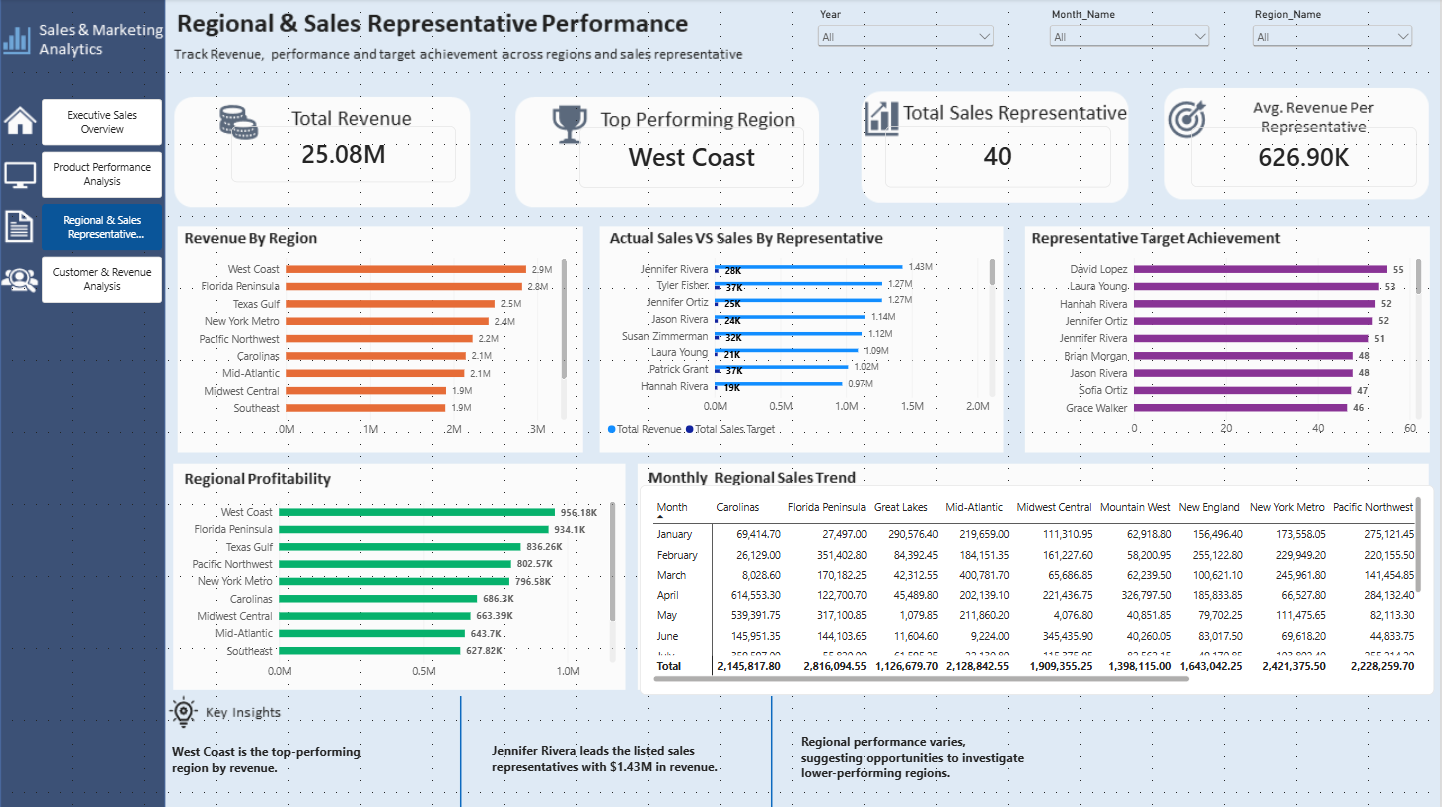

The dashboard page shown, as its layout file describes it:
{"tool":"powerbi","page":{"name":"Regional & Sales Representative Performance","canvas":[1920,1080],"ordinal":2},"visuals":[{"type":"card","fields":{"Values":["Sales_Transactions.Total Revenue"]},"box":[308,168,300,74.7],"z":0},{"type":"card","fields":{"Values":["Regions.Top - Peforming Region"]},"box":[772.1,168.7,300.3,80.9],"z":1000},{"type":"card","fields":{"Values":["Sales_Representatives.Total Sales Representative"]},"box":[1180.3,168.4,300.6,81.8],"z":2000},{"type":"card","fields":{"Values":["Sales_Transactions.Avg. Revenue Per Representative"]},"box":[1587.9,170,300.6,80.3],"z":3000},{"type":"clusteredBarChart","fields":{"Category":["Regions.Region_Name"],"Y":["Sales_Transactions.Total Revenue"]},"box":[239.2,322.6,533.5,280.1],"z":4000},{"type":"clusteredBarChart","fields":{"Category":["Sales_Representatives.Sales_Rep_Name"],"Y":["Sales_Transactions.Total Revenue","Sales_Representatives.Total Sales Target"]},"box":[792.7,322.3,549.9,279.8],"z":5000},{"type":"clusteredBarChart","fields":{"Category":["Sales_Representatives.Sales_Rep_Name"],"Y":["Sales_Representatives.Sales Target Achievement %"]},"box":[1352.6,322.3,559.5,279.8],"z":6000},{"type":"clusteredBarChart","fields":{"Category":["Regions.Region_Name"],"Y":["Sales_Transactions.Total Profit"]},"box":[229,647.3,607.5,279.8],"z":7000},{"type":"pivotTable","fields":{"Rows":["Customers.Acquisition_Date.Variation.Date Hierarchy.Month"],"Columns":["Regions.Region_Name"],"Values":["Sales_Transactions.Total Revenue"]},"box":[853,646.8,1059.1,280.1],"z":8000},{"type":"pageNavigator","box":[56.7,132.2,160.5,273.8],"z":9000},{"type":"slicer","fields":{"Values":["Sales_Transactions.Order_Date Hierarchy.Year"]},"box":[1085.9,11,245.5,86.4],"z":10000},{"type":"slicer","fields":{"Values":["Regions.Region_Name"]},"box":[1665,11,223.5,86.6],"z":11000},{"type":"slicer","fields":{"Values":["Sales_Transactions.Order_Date Hierarchy.Month_Name"]},"box":[1394.4,11,223.5,86.6],"z":12000},{"type":"textbox","box":[229,990.2,304,72],"z":13000},{"type":"shape","box":[532.1,927.8,164.6,152.2],"z":14000},{"type":"textbox","box":[655.5,988.8,304,72],"z":15000},{"type":"shape","box":[946.3,928.5,164.6,152.2],"z":16000},{"type":"textbox","box":[1068.3,977.8,304,72],"z":17000}]}

Visuals, with their boxes on the page's 1920x1080 design canvas (x1, y1, x2, y2). These are canvas units, not pixel positions in the 1442x807 screenshot, which may show the page scaled, cropped or inside an application window:
card - Sales_Transactions.Total Revenue: Rect(308, 168, 608, 243)
card - Regions.Top - Peforming Region: Rect(772, 169, 1072, 250)
card - Sales_Representatives.Total Sales Representative: Rect(1180, 168, 1481, 250)
card - Sales_Transactions.Avg. Revenue Per Representative: Rect(1588, 170, 1888, 250)
clusteredBarChart - Regions.Region_Name x Sales_Transactions.Total Revenue: Rect(239, 323, 773, 603)
clusteredBarChart - Sales_Representatives.Sales_Rep_Name x Sales_Transactions.Total Revenue: Rect(793, 322, 1343, 602)
clusteredBarChart - Sales_Representatives.Sales_Rep_Name x Sales_Representatives.Sales Target Achievement %: Rect(1353, 322, 1912, 602)
clusteredBarChart - Regions.Region_Name x Sales_Transactions.Total Profit: Rect(229, 647, 836, 927)
pivotTable - Customers.Acquisition_Date.Variation.Date Hierarchy.Month x Regions.Region_Name: Rect(853, 647, 1912, 927)
pageNavigator: Rect(57, 132, 217, 406)
slicer - Sales_Transactions.Order_Date Hierarchy.Year: Rect(1086, 11, 1331, 97)
slicer - Regions.Region_Name: Rect(1665, 11, 1888, 98)
slicer - Sales_Transactions.Order_Date Hierarchy.Month_Name: Rect(1394, 11, 1618, 98)
textbox: Rect(229, 990, 533, 1062)
shape: Rect(532, 928, 697, 1080)
textbox: Rect(656, 989, 960, 1061)
shape: Rect(946, 928, 1111, 1081)
textbox: Rect(1068, 978, 1372, 1050)
